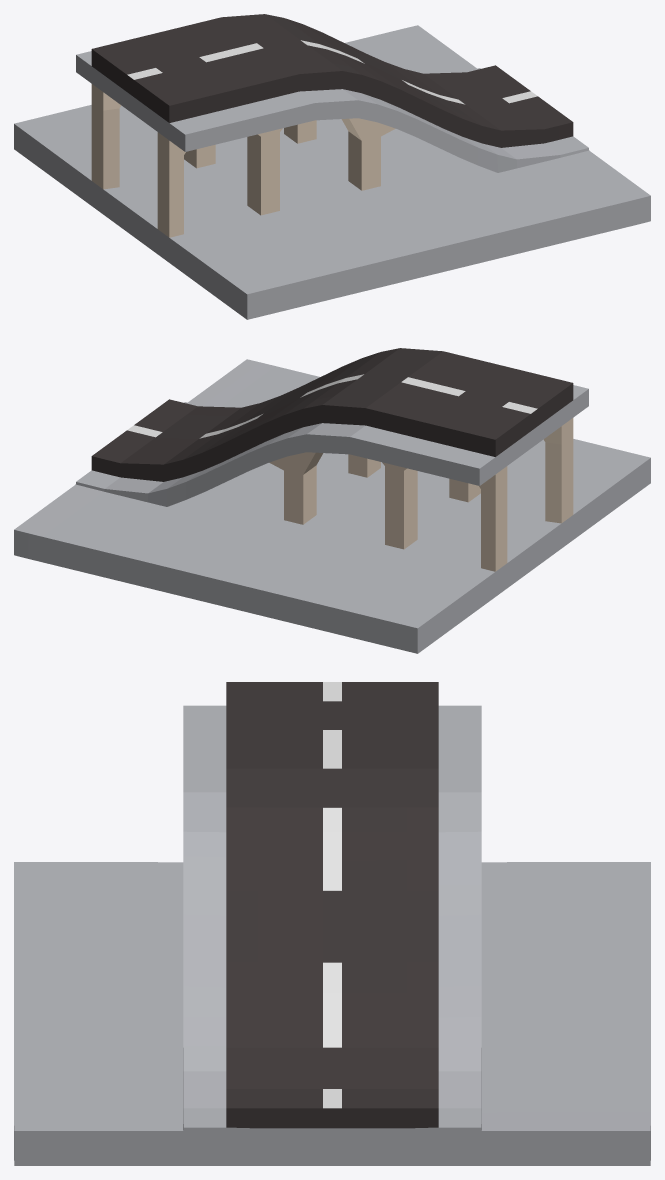
Rendered from Street_Bridge_Ramp.fbx.
3 renders of one model, top to bottom at view 1: azimuth 30°, elevation 25°; view 2: azimuth 150°, elevation 25°; view 3: azimuth 270°, elevation 25°, orthographic. The views are drawn at different scales.
Visible parts, largest first — view 1: Street_Bridge_Ramp; view 2: Street_Bridge_Ramp; view 3: Street_Bridge_Ramp.
Part boxes in pixels (x1=…): Street_Bridge_Ramp: x1=14, y1=14, x2=650, y2=319; Street_Bridge_Ramp: x1=14, y1=348, x2=650, y2=653; Street_Bridge_Ramp: x1=14, y1=682, x2=650, y2=1165.
Bounding box in the file's own units: 200 × 74.38 × 200.
